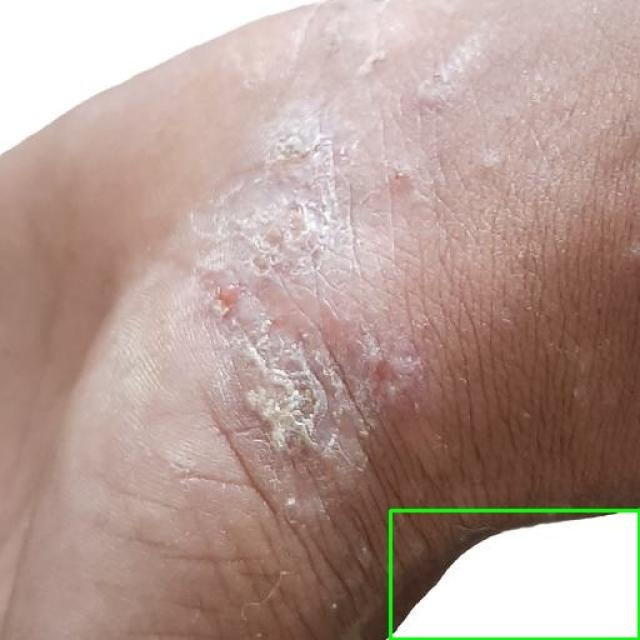Scabies: (390, 510, 639, 639)
